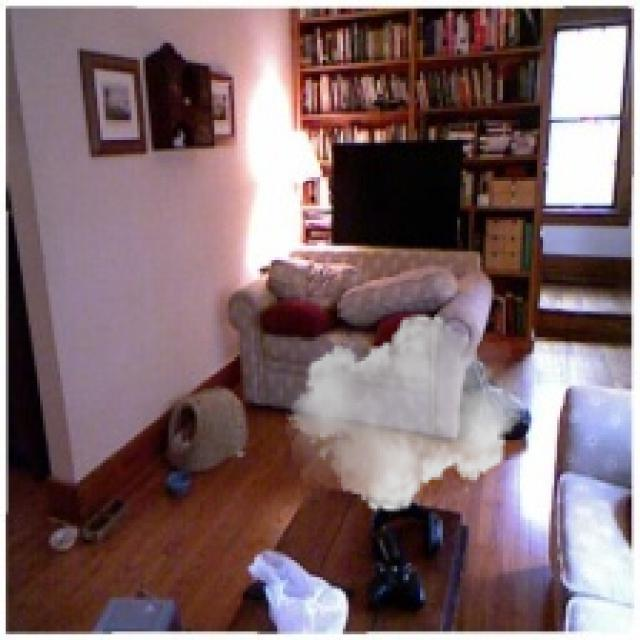smoke: (286, 306, 526, 520)
